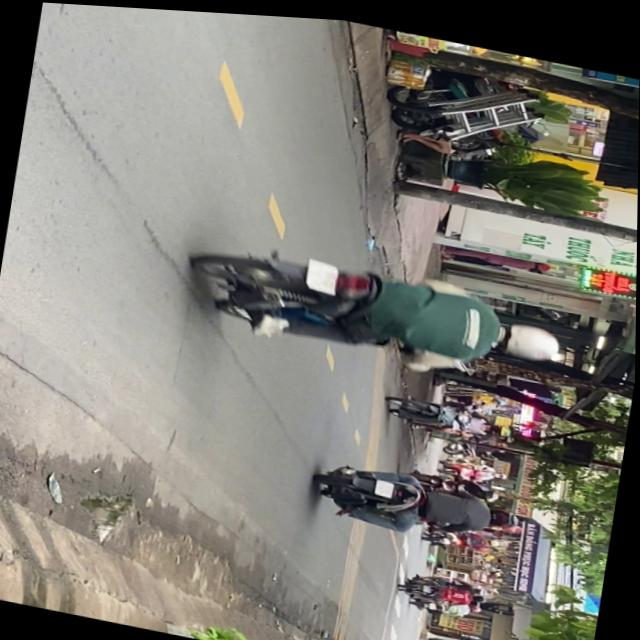helmet: (496, 311, 565, 360), (490, 501, 522, 524)
licenseplate: (181, 226, 571, 392), (311, 450, 528, 549)
nohelmet: (306, 255, 340, 291), (375, 474, 396, 493)
